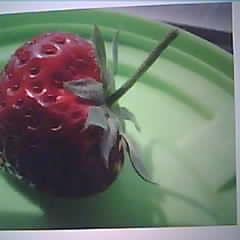straw-ripe: (0, 32, 123, 195)
